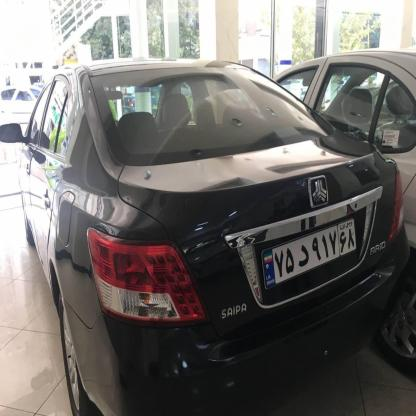Car: (0, 58, 406, 416), (261, 17, 416, 348), (0, 81, 51, 131)
